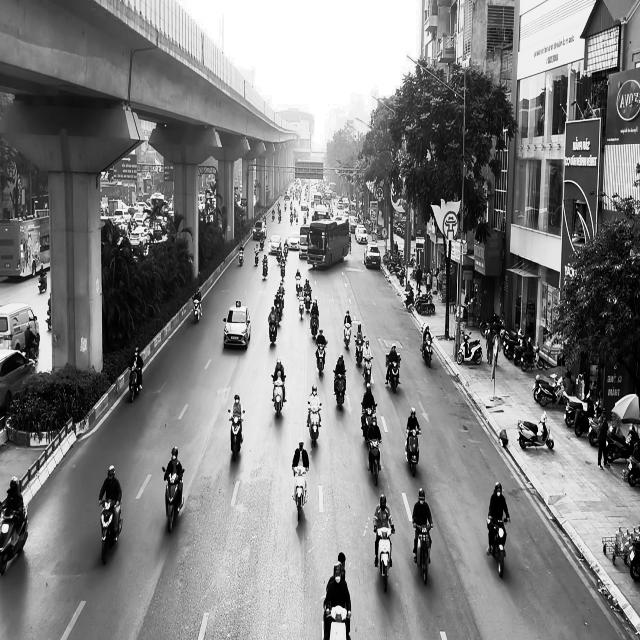bus: (0, 214, 51, 280)
car: (0, 349, 37, 412), (223, 300, 251, 349), (364, 242, 381, 268), (268, 235, 282, 254), (288, 231, 300, 250)
motorbike: (0, 502, 29, 576), (99, 498, 123, 565), (162, 466, 185, 533), (487, 516, 510, 578), (518, 411, 554, 450), (374, 527, 395, 592), (413, 520, 433, 584), (324, 602, 351, 639), (228, 408, 246, 462), (292, 465, 309, 521), (404, 426, 422, 476), (457, 331, 482, 365), (367, 435, 382, 486), (361, 402, 378, 442), (307, 402, 322, 447), (272, 375, 286, 418), (386, 353, 401, 393), (333, 370, 347, 409), (129, 363, 143, 402), (315, 340, 328, 377), (422, 334, 434, 368), (362, 356, 374, 386), (355, 334, 366, 365), (192, 294, 203, 323), (269, 315, 278, 344), (310, 314, 320, 340), (344, 322, 352, 348), (298, 294, 305, 320), (38, 273, 47, 293), (262, 254, 268, 280), (239, 246, 244, 266), (255, 247, 259, 266)
